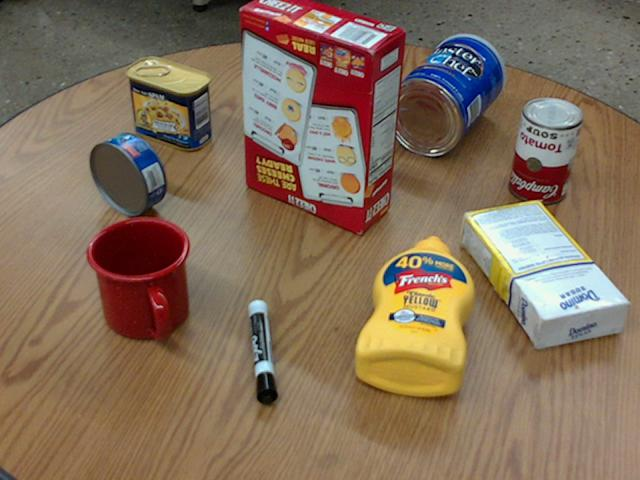cracker_box: (239, 0, 404, 232)
gelatin_box: (258, 60, 342, 115)
large_marker: (246, 299, 276, 404)
master_chef_can: (384, 33, 503, 154)
mug: (86, 217, 190, 340)
mustard_bottle: (353, 235, 473, 396)
potted_meat_can: (123, 58, 210, 150)
sugar_box: (458, 202, 629, 345)
tomato_soup_can: (506, 95, 580, 202)
tuna_fish_can: (90, 133, 165, 216)
